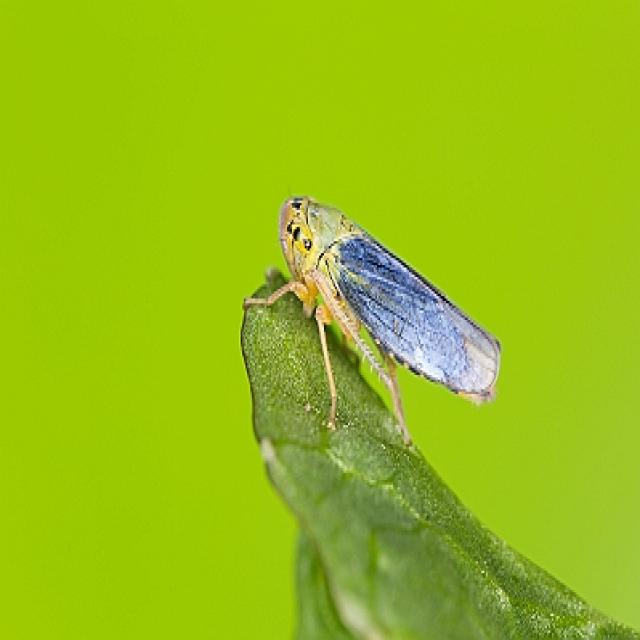Yechan: (267, 180, 514, 423)
